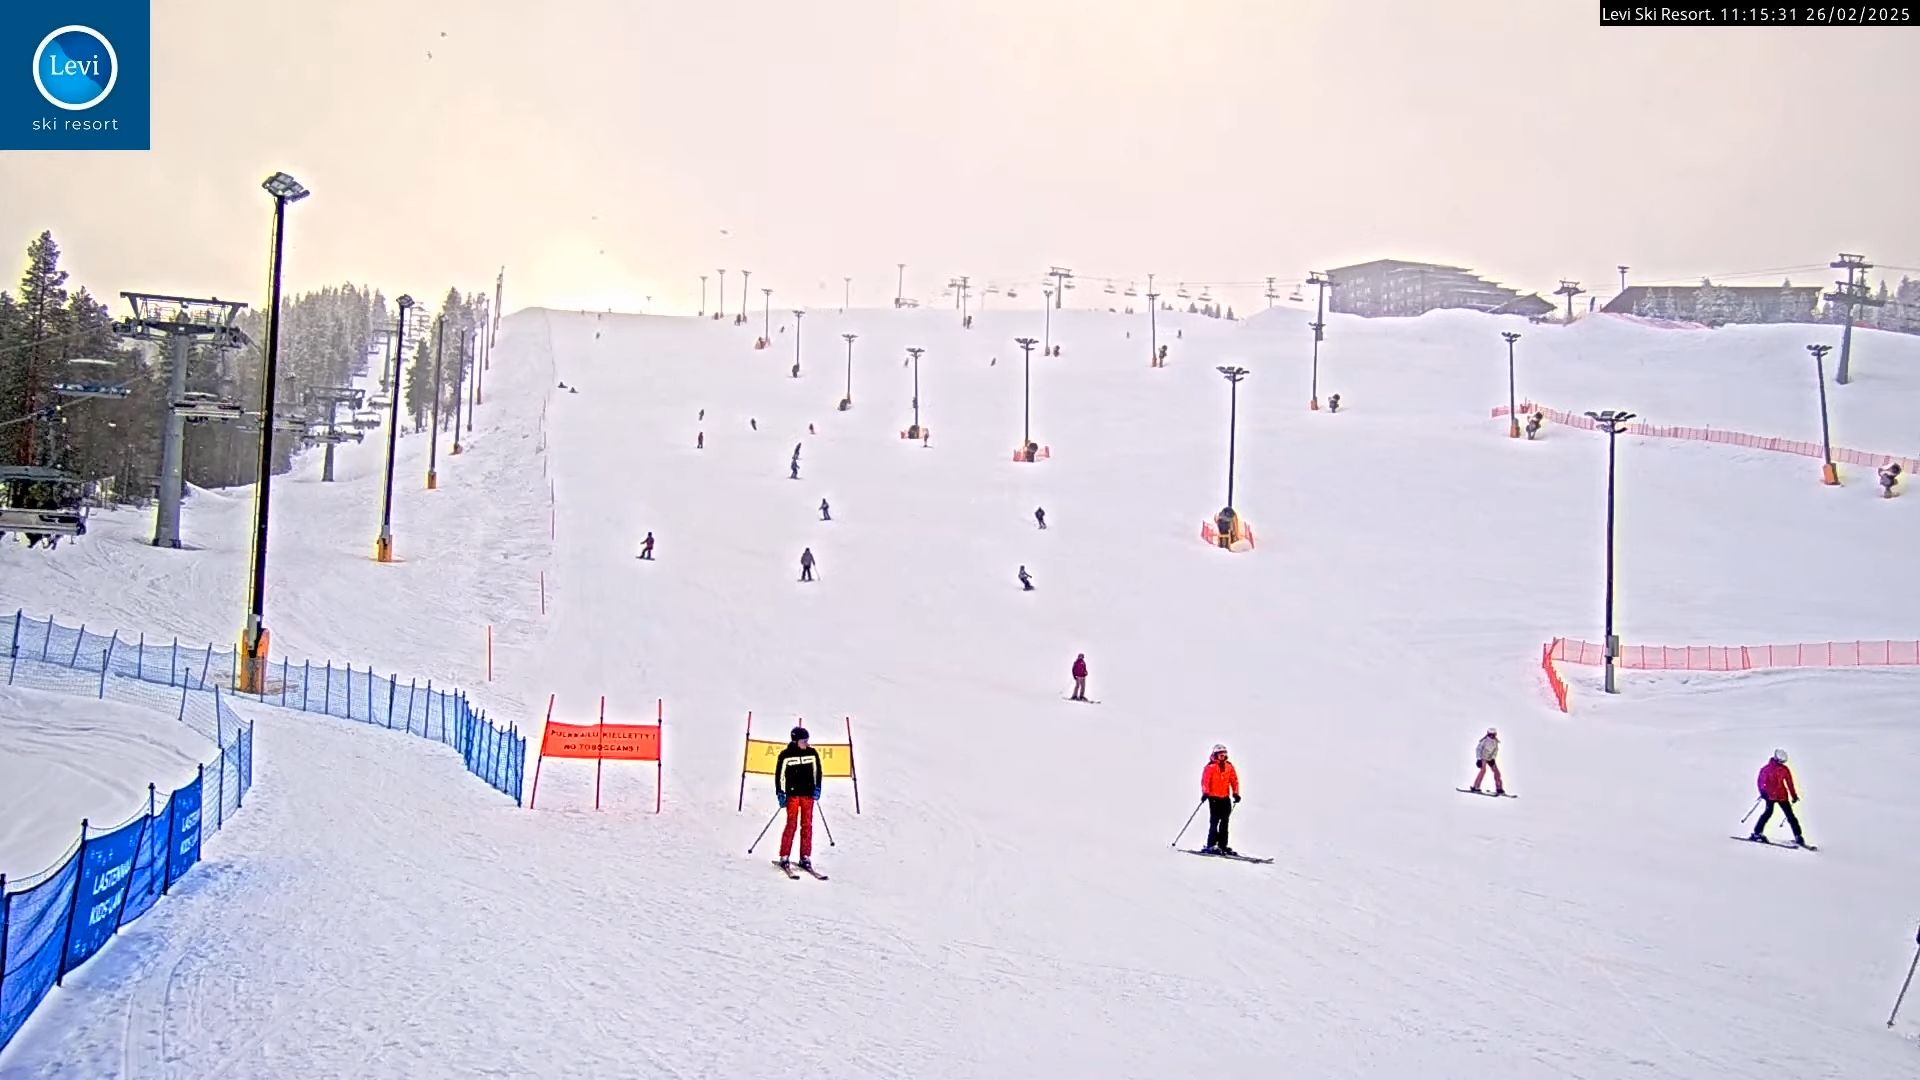skier: (1170, 742, 1275, 861), (764, 729, 827, 880), (1730, 748, 1817, 848), (1451, 723, 1518, 799)
